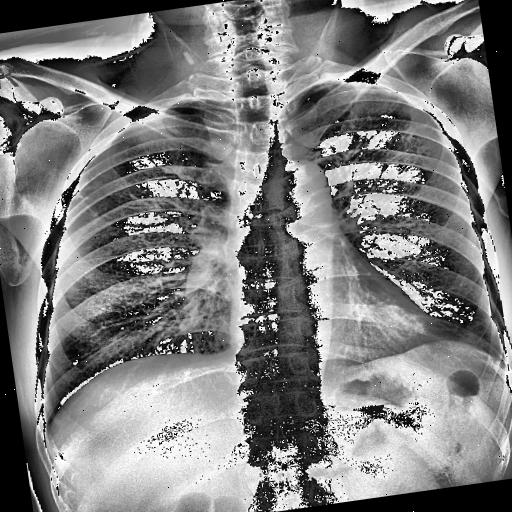0- Aortic enlargement: (264, 154, 331, 208)
13- Pulmonary fibrosis: (325, 94, 432, 161), (74, 187, 110, 223), (73, 185, 96, 217), (404, 120, 434, 142)
